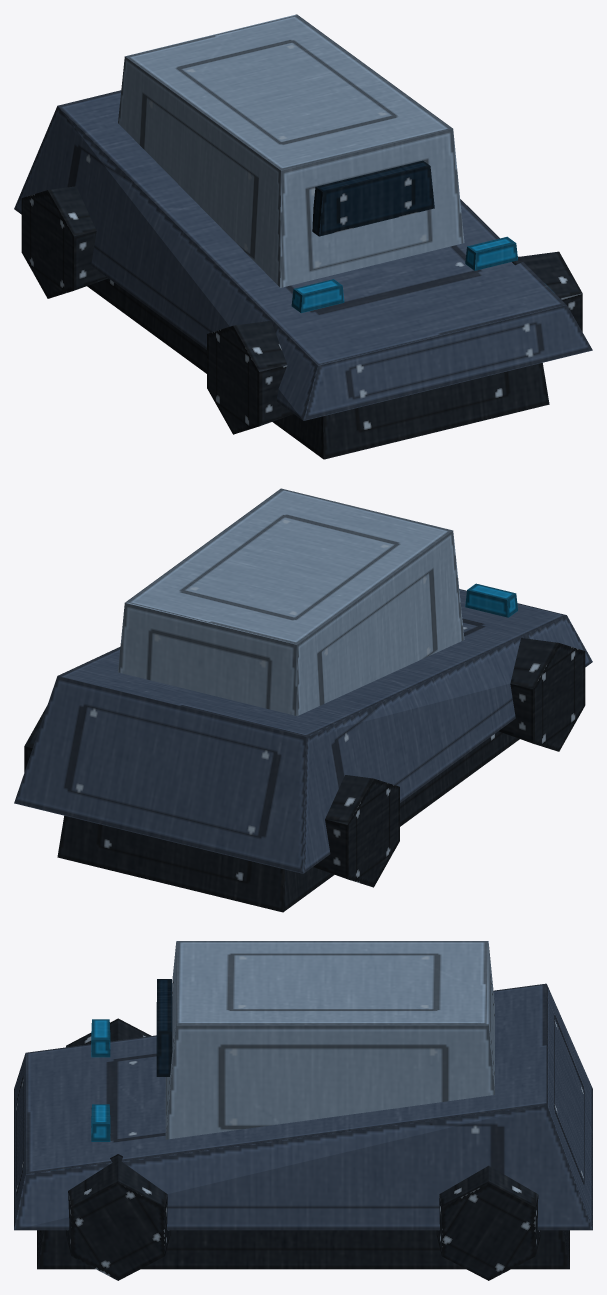
File: unit-scout.fbx
3 views of the same model, one above another, from view 1: azimuth 30°, elevation 25°; view 2: azimuth 150°, elevation 25°; view 3: azimuth 270°, elevation 25° (orthographic).
Visible parts, largest first — view 1: unit-scout; view 2: unit-scout; view 3: unit-scout.
Boxes of the visible parts, x1,y1,x2,y2 form: unit-scout: (14,14,592,459); unit-scout: (14,488,592,912); unit-scout: (14,941,592,1280).
Bounding box in the file's own units: 237 × 160 × 364.
1 material, 1 textured.
